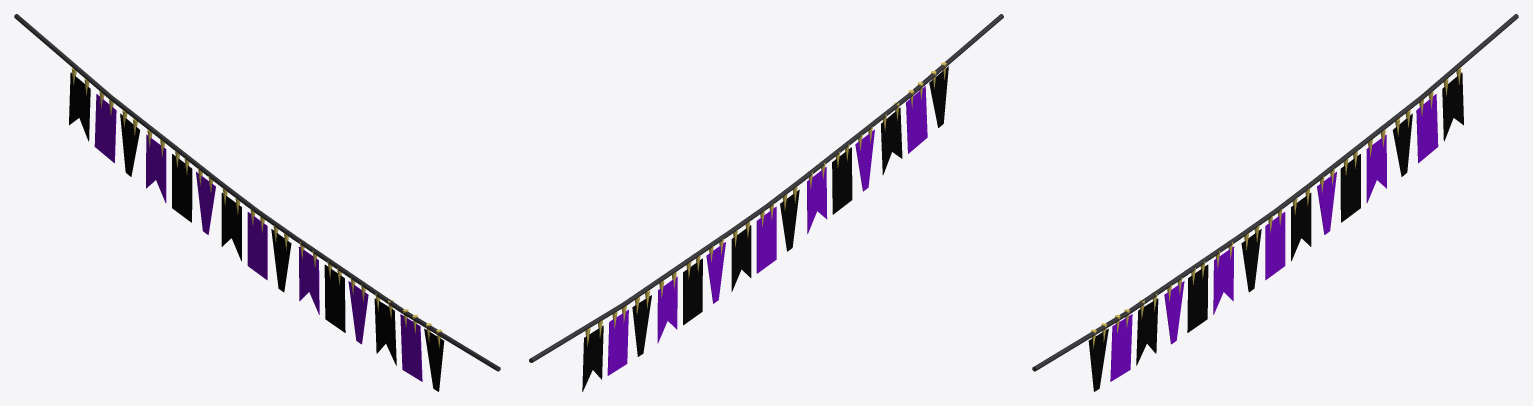
The model's file is Pennants_B_P.fbx.
The picture shows the model from 3 angles, left to right: view 1: azimuth 30°, elevation 25°; view 2: azimuth 150°, elevation 25°; view 3: azimuth 330°, elevation 25°; orthographic projection. The views are drawn at different scales.
Visible parts, largest first — view 1: Pennant_B_P; view 2: Pennant_B_P; view 3: Pennant_B_P.
Part boxes in pixels (x1,y1,x2,y2): Pennant_B_P: [14, 14, 500, 391]; Pennant_B_P: [529, 14, 1003, 391]; Pennant_B_P: [1032, 14, 1518, 391].
Bounding box in the file's own units: 18.91 × 304 × 3223.
